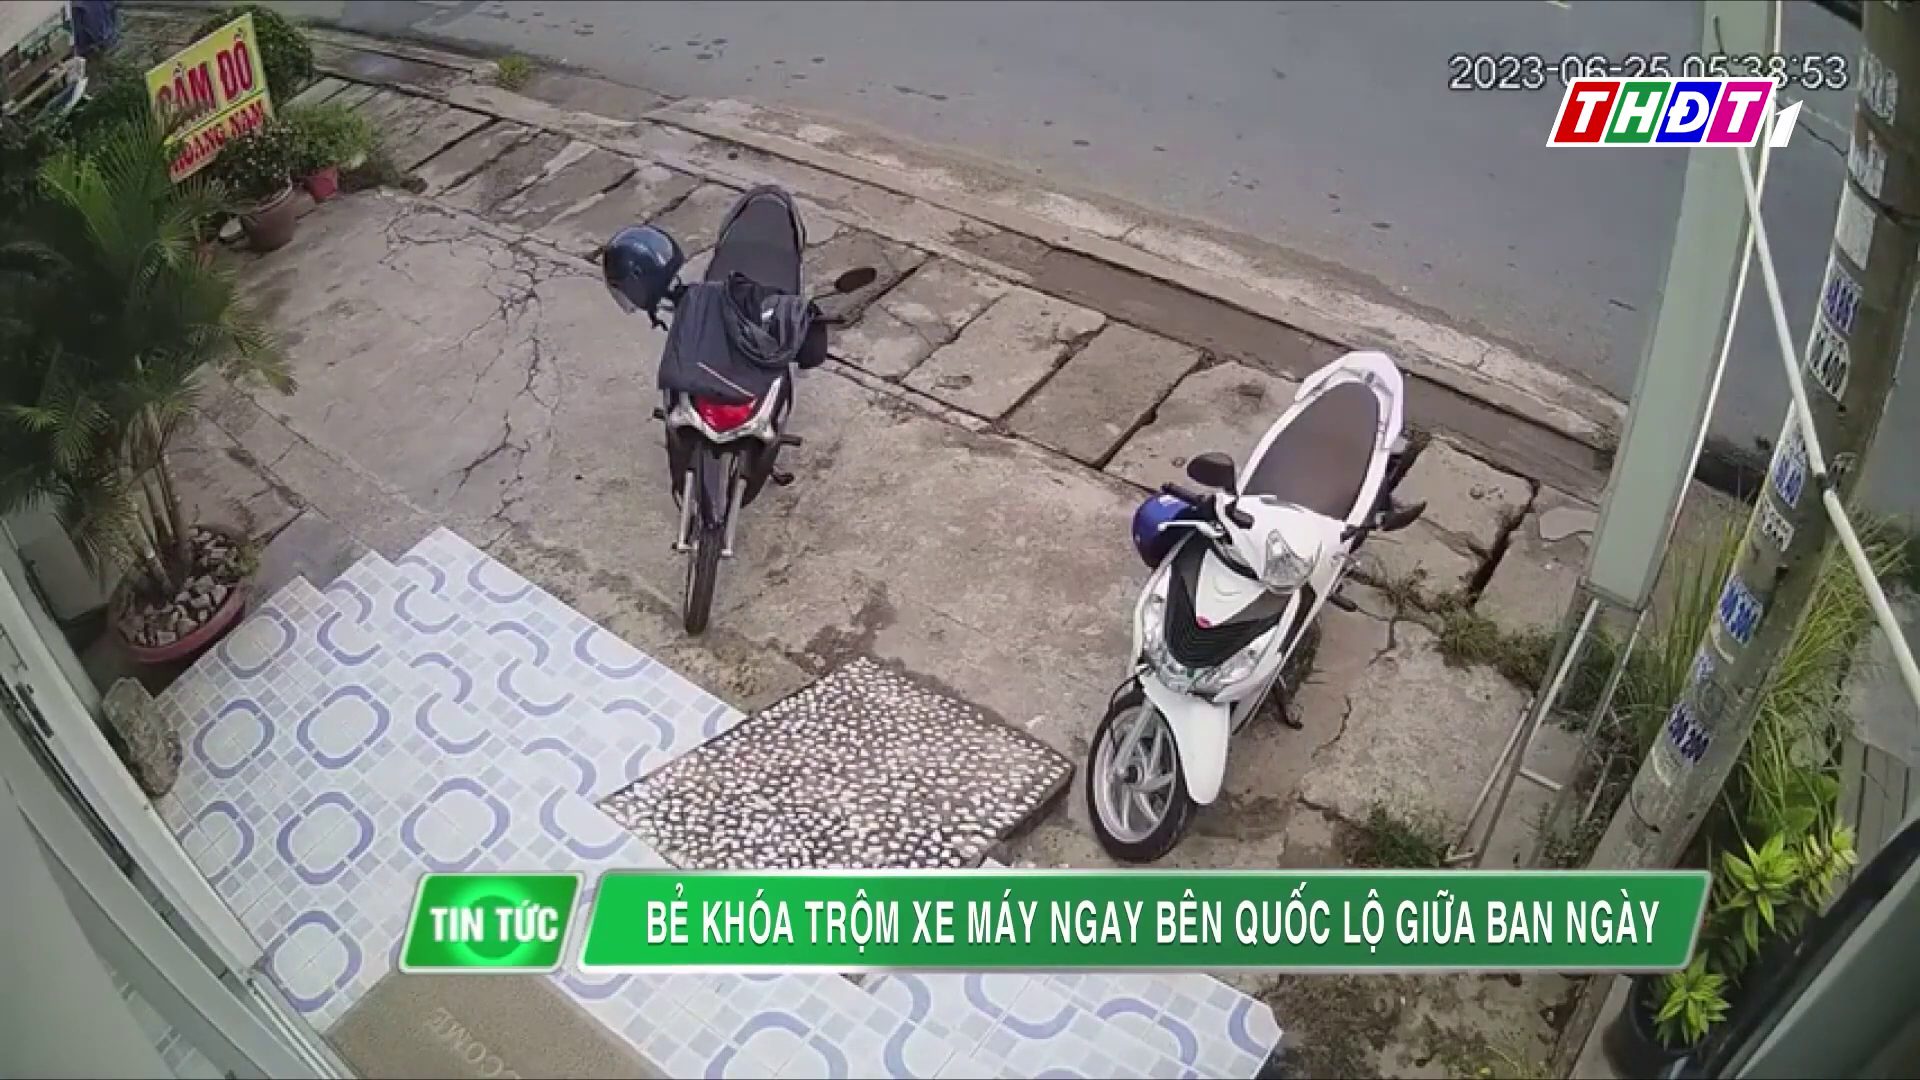Motorcycle: (1084, 348, 1429, 866), (599, 181, 878, 637)
